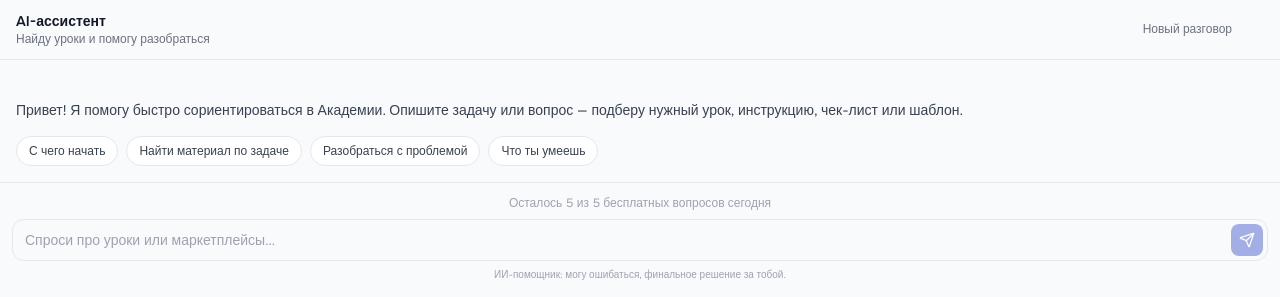
Test: AssistantConversation › отправляет сообщение и показывает ответ ассистента
The image size is (1280, 297).
Type "что такое ДРР" into the field with placeholder "Спроси про уроки или маркетплейсы…". click: (624, 240)
box: [25,230,1223,250]
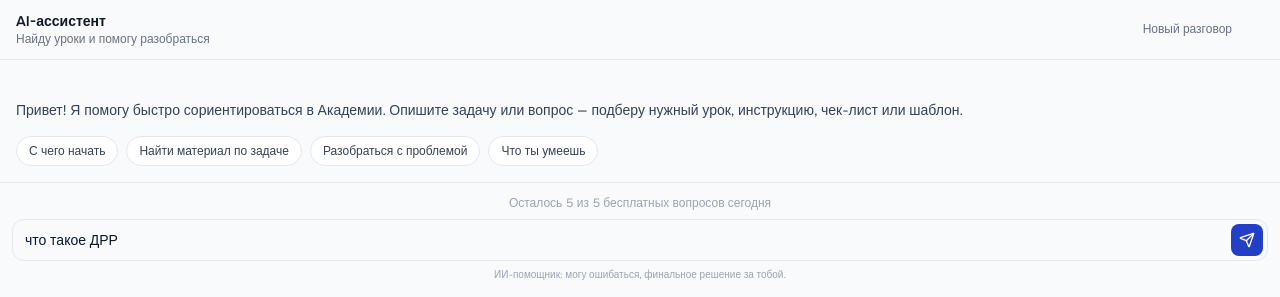
Click the button named "Отправить". click: (1247, 240)
box: [1231,224,1263,256]
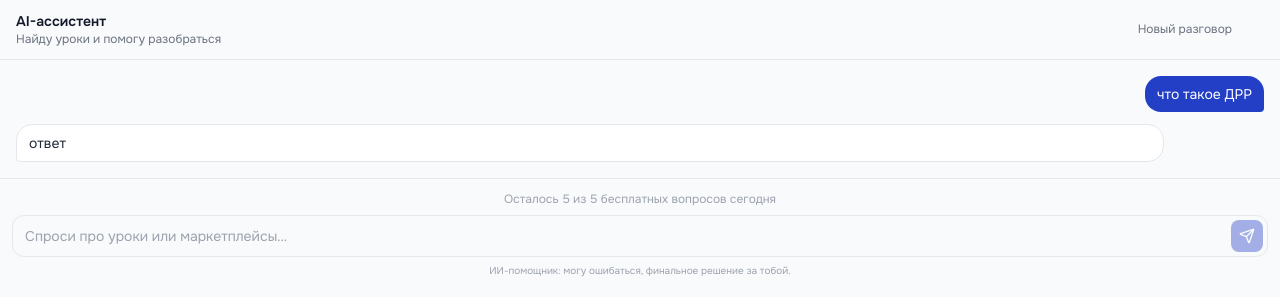
Now the text "ответ" is shown, box [29,134,66,152]
Now the text "что такое ДРР" is shown, box [1157,84,1252,104]
